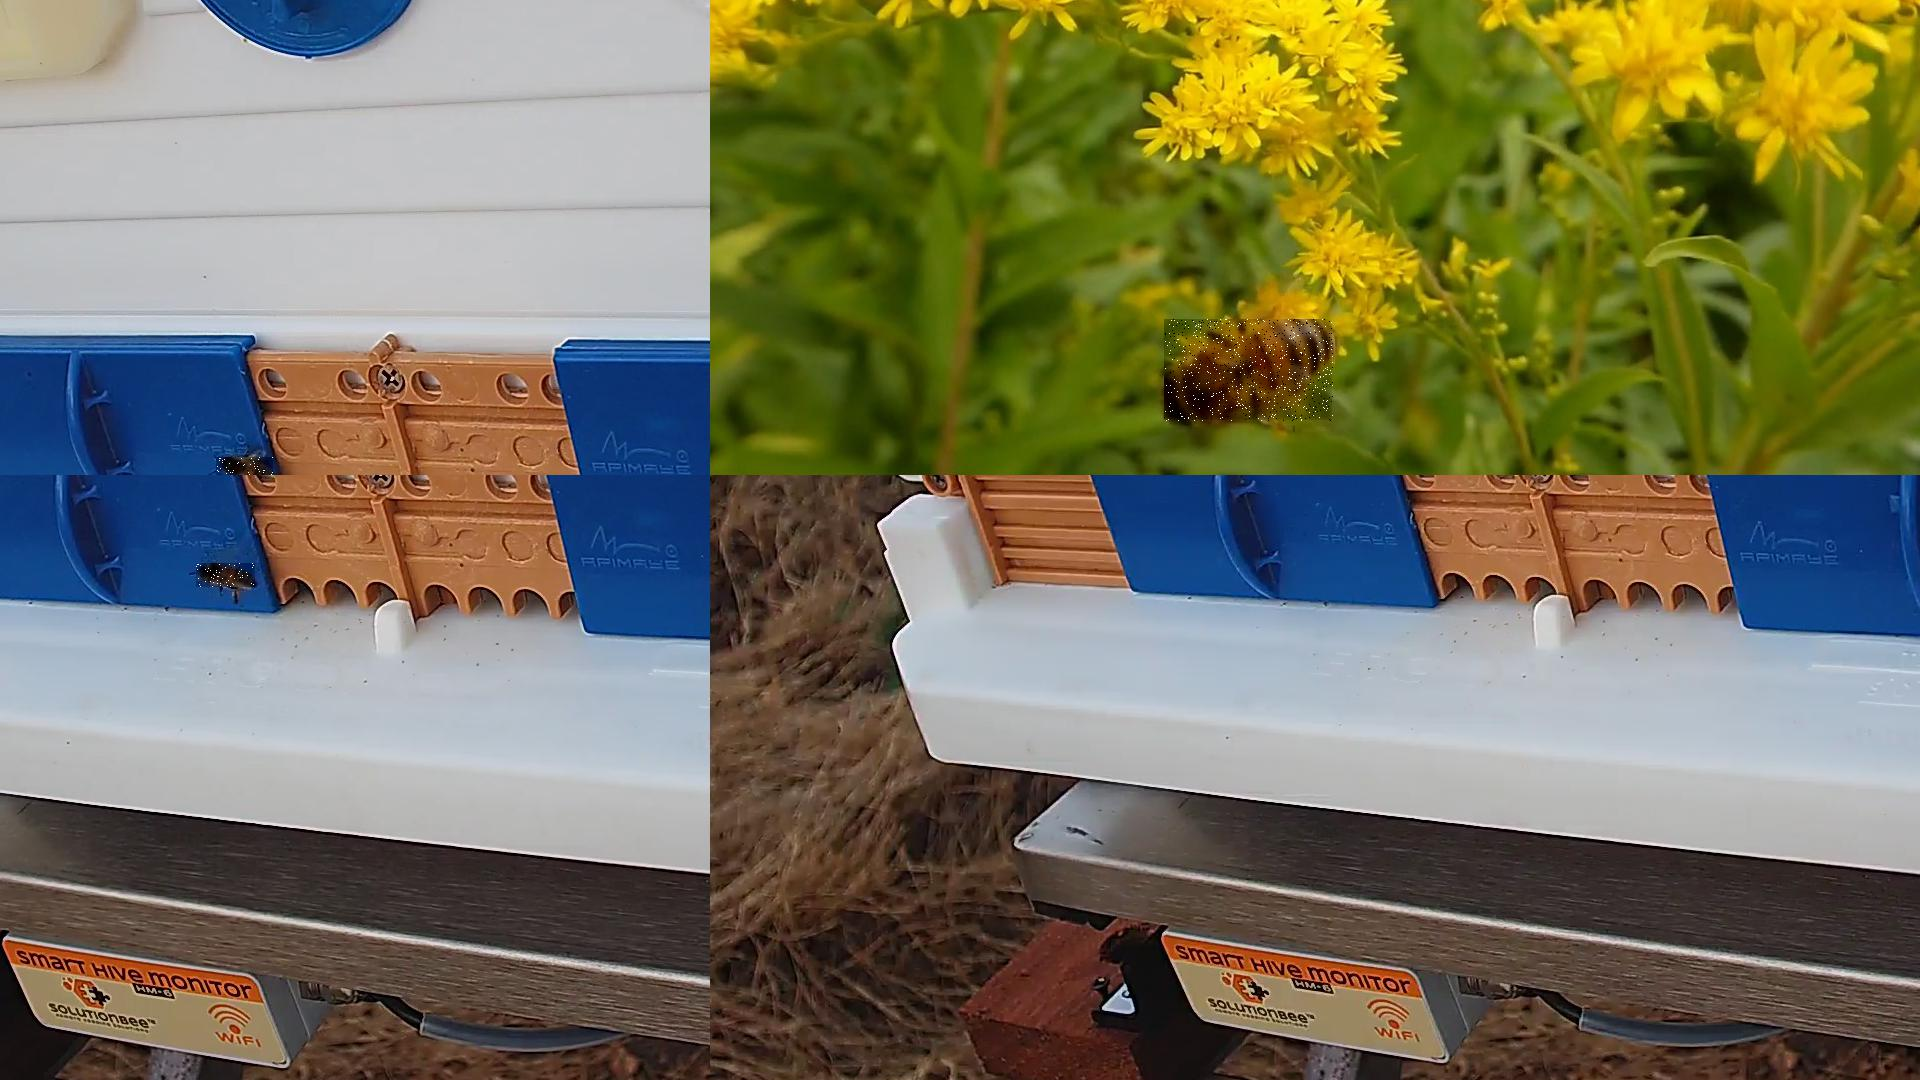bee: (1164, 320, 1335, 423), (196, 563, 256, 588), (216, 458, 276, 473)
